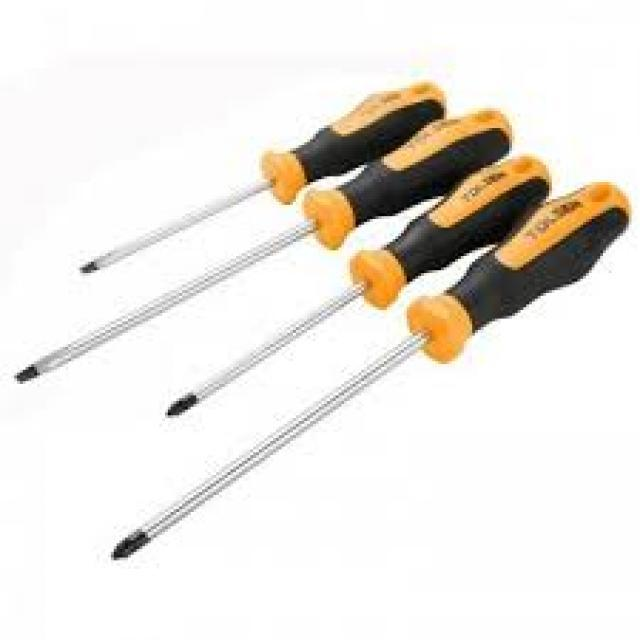screwdriver: (108, 179, 632, 566), (11, 106, 512, 388), (160, 148, 554, 421), (77, 76, 450, 282)
